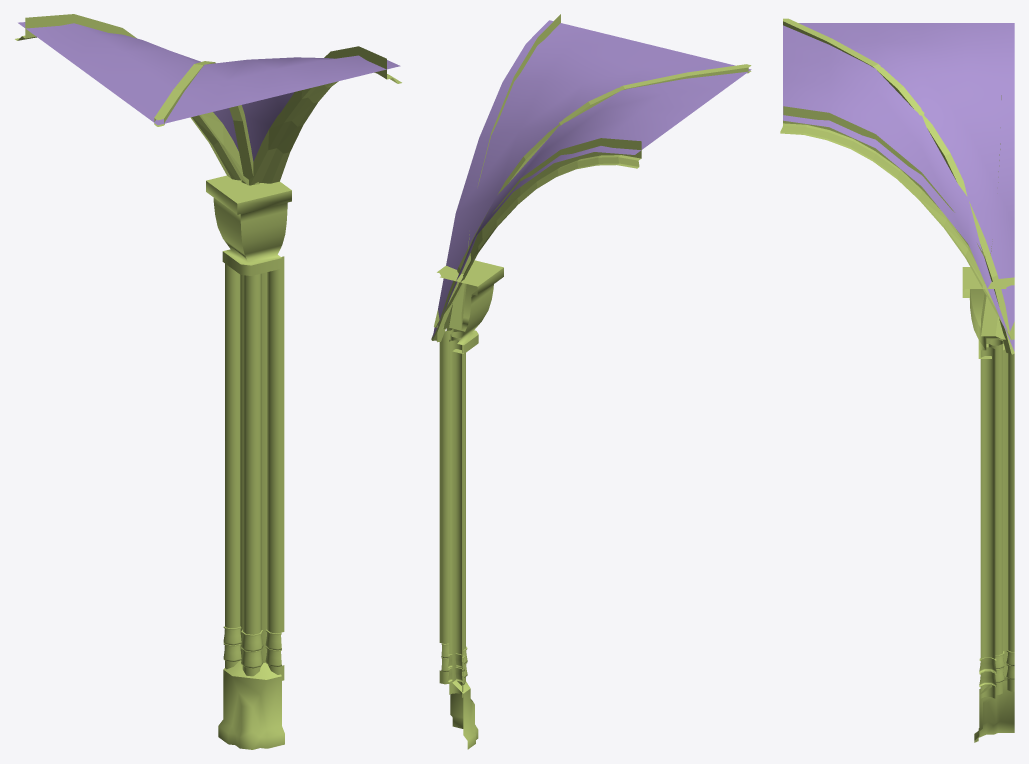
File: column_quarter.fbx
3 views of the same model, side by side, from view 1: azimuth 30°, elevation 25°; view 2: azimuth 150°, elevation 25°; view 3: azimuth 270°, elevation 25° (orthographic). The views are drawn at different scales.
Visible parts, largest first — view 1: Cylinder.002; view 2: Cylinder.002; view 3: Cylinder.002.
Boxes of the visible parts, x1=… form: Cylinder.002: x1=15, y1=14, x2=401, y2=749; Cylinder.002: x1=431, y1=14, x2=751, y2=749; Cylinder.002: x1=780, y1=18, x2=1014, y2=742.
Bounding box in the file's own units: 5.13 × 15.21 × 5.06.
